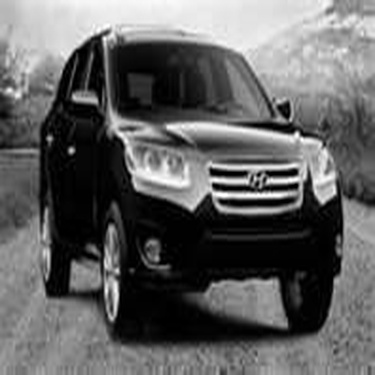car: (3, 18, 359, 344)
